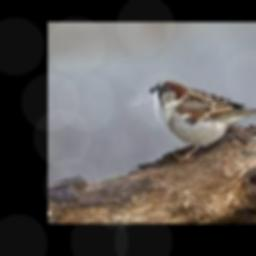Sparrow: (149, 79, 256, 161)
